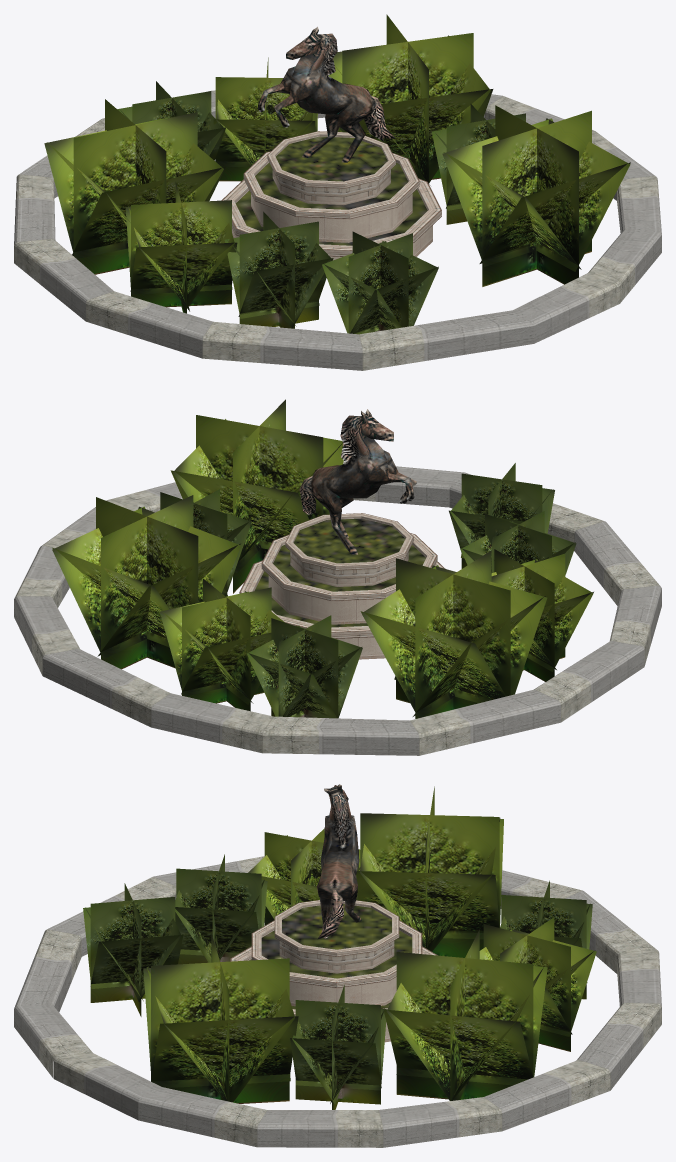
Rendered from Decore_Fountain.fbx.
3 renders of one model, top to bottom at view 1: azimuth 30°, elevation 25°; view 2: azimuth 150°, elevation 25°; view 3: azimuth 270°, elevation 25°, orthographic.
Parts seen in each view (by area): view 1: Decore_Fountain; view 2: Decore_Fountain; view 3: Decore_Fountain.
Part boxes in pixels (x1,y1,x2,y2): Decore_Fountain: (14,14,661,370); Decore_Fountain: (14,399,661,755); Decore_Fountain: (14,784,661,1147).
Size of the model in its own units: 22.93 by 9.38 by 22.78.
